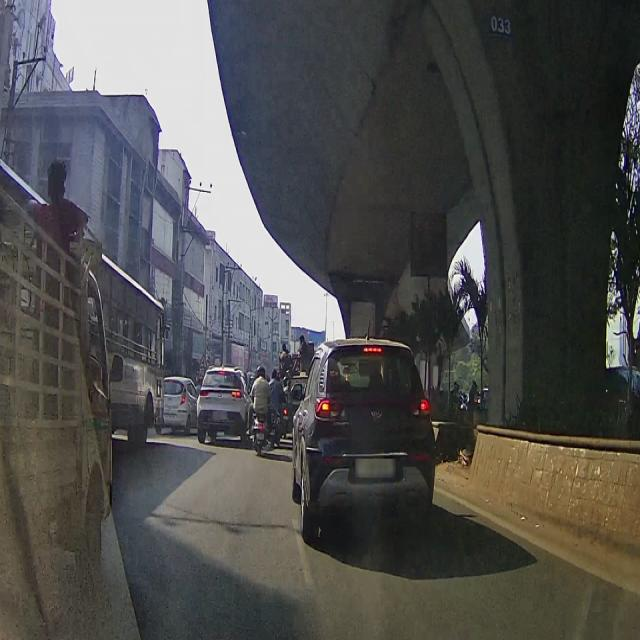side-road-left: (199, 354, 208, 367)
